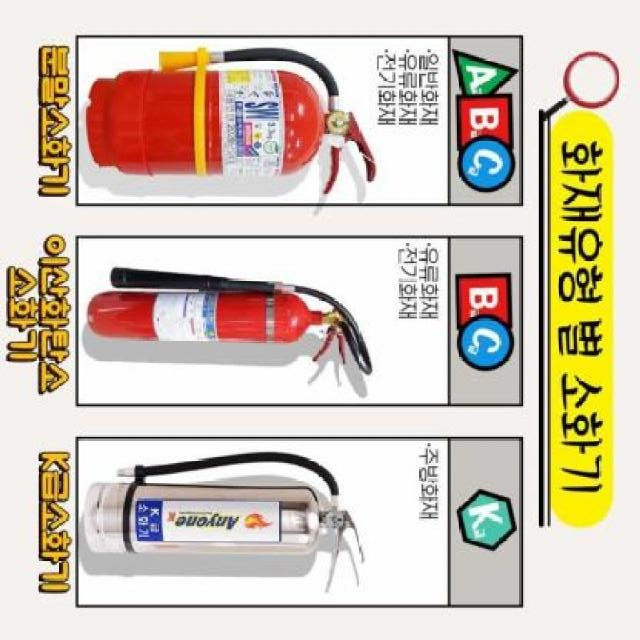fire extinguisher: (87, 47, 376, 195), (83, 451, 365, 567), (87, 267, 373, 376)
